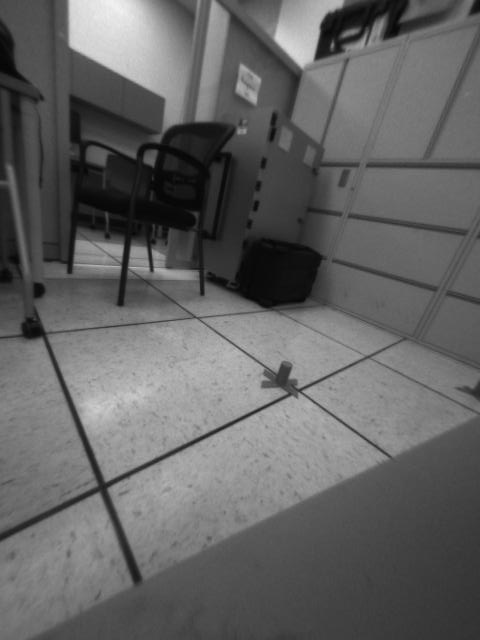X: (255, 358, 308, 400)
